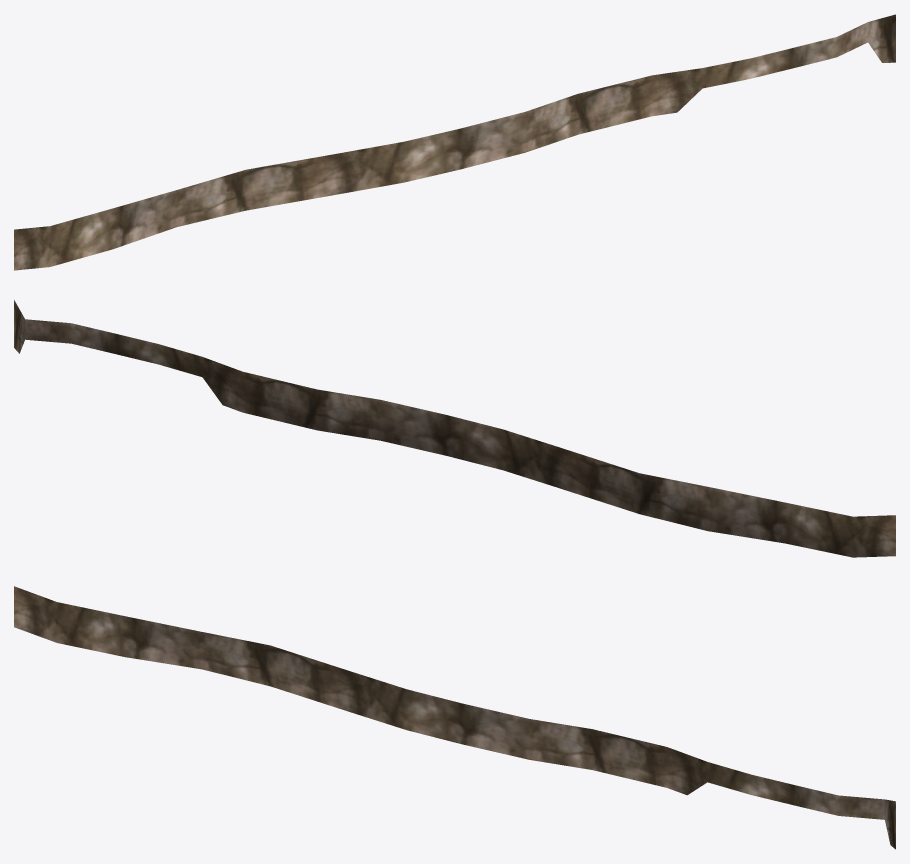
File: EKH_THRONE_PS_TH_RIVER_TRIM344.fbx
3 views of the same model, one above another, from view 1: azimuth 30°, elevation 25°; view 2: azimuth 150°, elevation 25°; view 3: azimuth 330°, elevation 25° (orthographic).
Parts seen in each view (by area): view 1: EKH_THRONE_PS_TH_RIVER_TRIM344; view 2: EKH_THRONE_PS_TH_RIVER_TRIM344; view 3: EKH_THRONE_PS_TH_RIVER_TRIM344.
Part boxes in pixels (x1,y1,x2,y2): EKH_THRONE_PS_TH_RIVER_TRIM344: (14,14,895,270); EKH_THRONE_PS_TH_RIVER_TRIM344: (14,300,895,557); EKH_THRONE_PS_TH_RIVER_TRIM344: (14,586,895,849).
Size of the model in its own units: 200582 by 10849 by 5071.
Materials: 1 (1 with a texture image).
